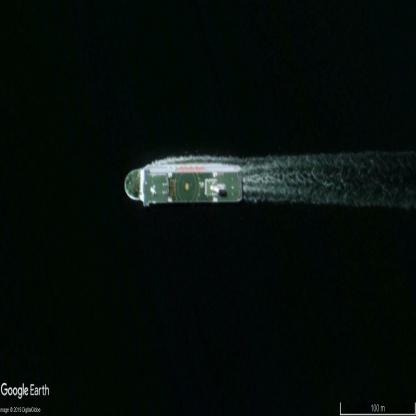ship: (123, 164, 243, 204)
